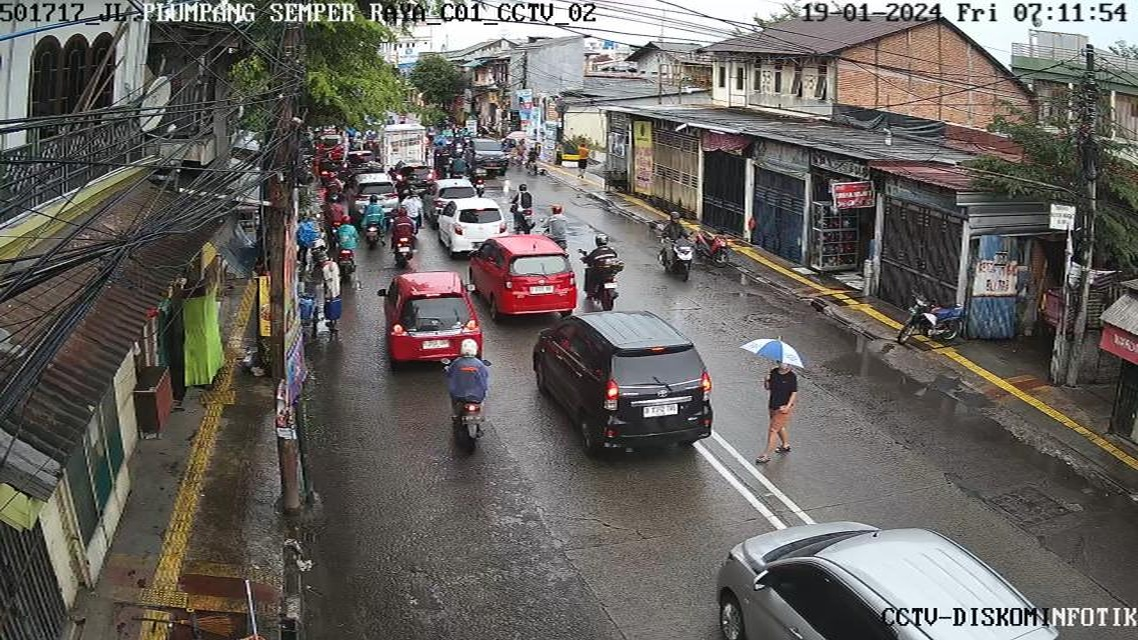Payung: (741, 333, 811, 372)
